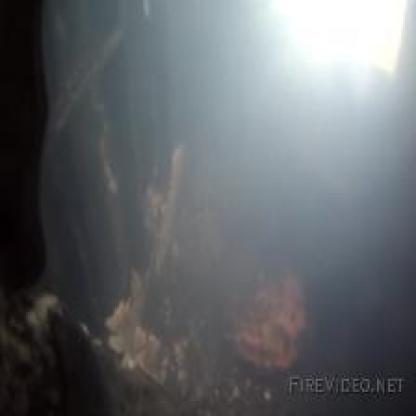other: (261, 0, 402, 76)
